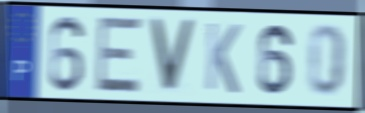0: (306, 21, 349, 101)
6: (46, 12, 86, 94), (257, 21, 295, 98)
E: (94, 14, 145, 95)
K: (203, 19, 243, 97)
V: (147, 15, 198, 97)
